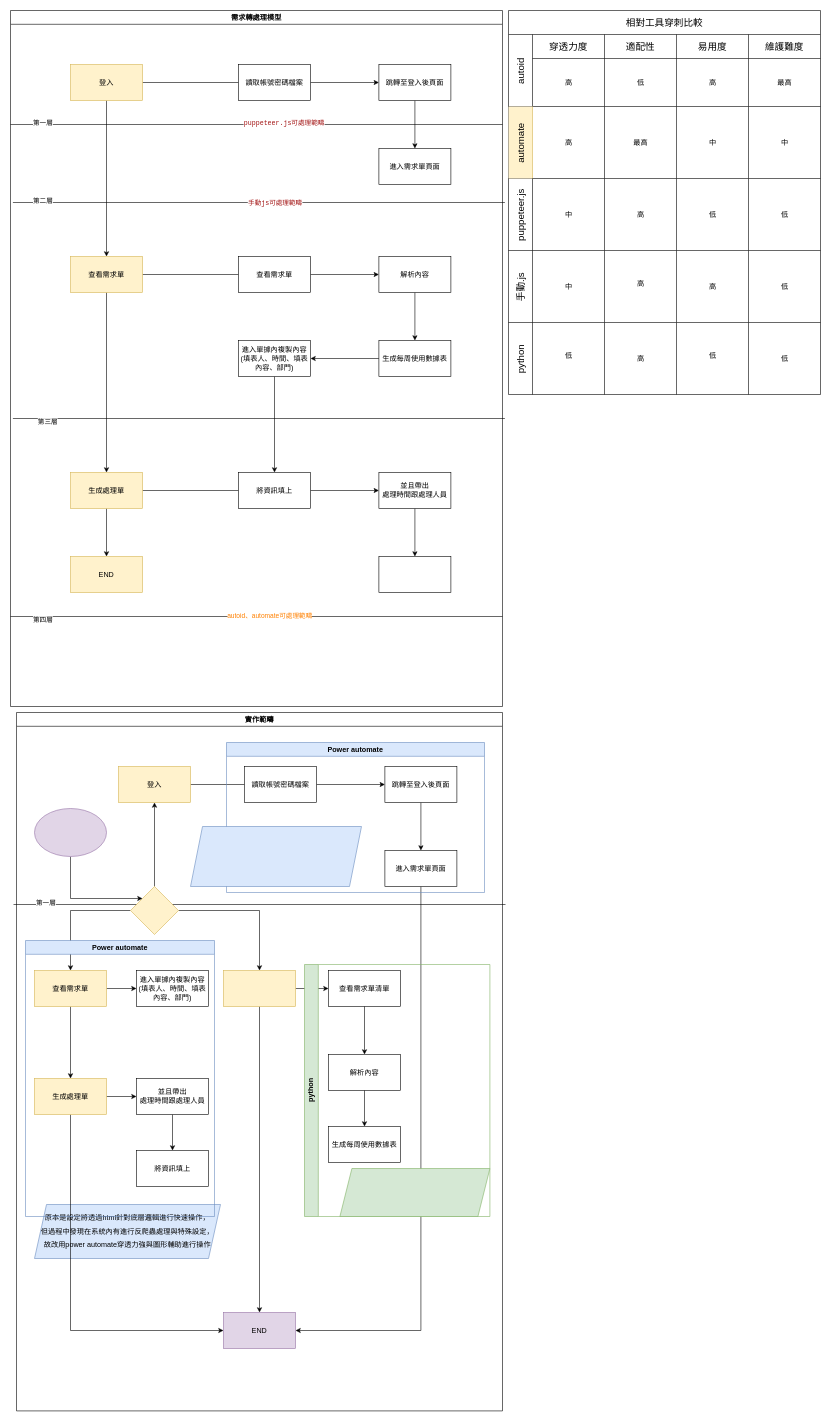
This 831x1421 diagram has some shape labels left out. The centre of each missing label's shape, as x and y in pixels:
"Star" goes at point 70,832.
"判斷式" goes at point 154,910.
"原始設定為即使處理數據 但在powerautomate上處理失去數據彈性 改為python檔案進行這塊操作" goes at point 414,1192.
"原本是設定將檔案內帳號密碼進行提取 但會出現資安疑慮故改為由瀏覽器模擬滑鼠行為，以使用者cookie作為帳號密碼登入方式" goes at point 276,856.
"數據分析" goes at point 259,988.
"結束" goes at point 414,574.
